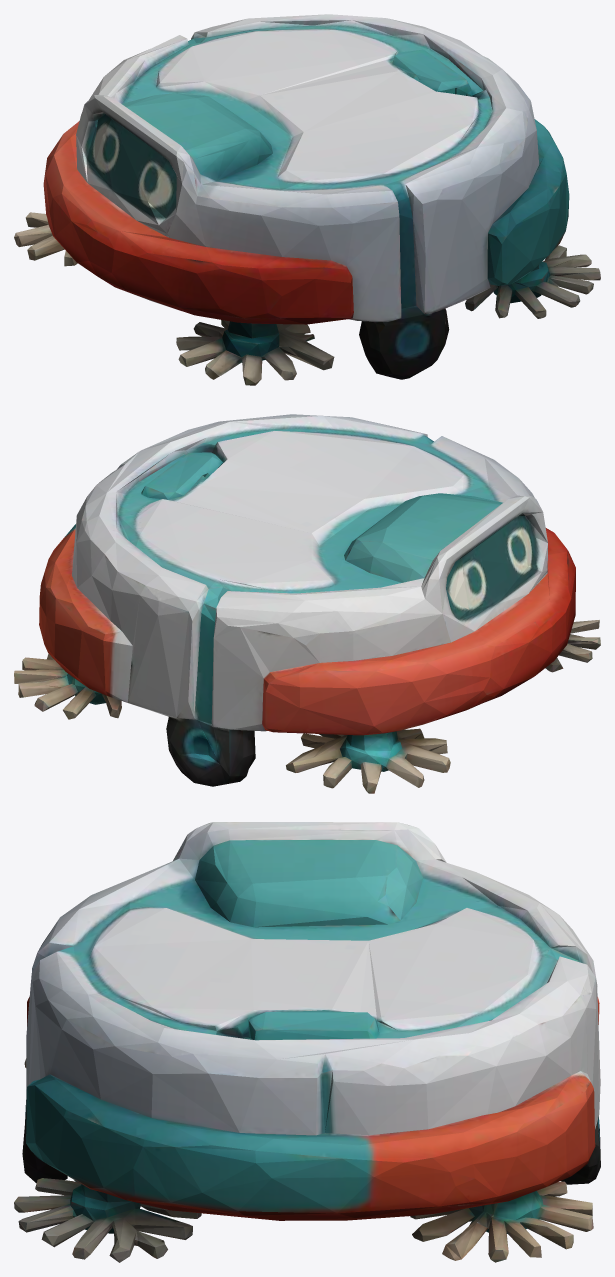
Rendered from robot.glb.
3 views of the same model, one above another, from view 1: azimuth 30°, elevation 25°; view 2: azimuth 150°, elevation 25°; view 3: azimuth 270°, elevation 25° (orthographic). The views are drawn at different scales.
Visible parts, largest first — view 1: geometry_0; view 2: geometry_0; view 3: geometry_0.
Boxes of the visible parts, x1=… form: geometry_0: x1=14, y1=14, x2=600, y2=385; geometry_0: x1=14, y1=414, x2=600, y2=793; geometry_0: x1=14, y1=822, x2=600, y2=1262.
Size of the model in its own units: 0.9956 by 0.4562 by 0.9175.
1 material, 1 textured.
